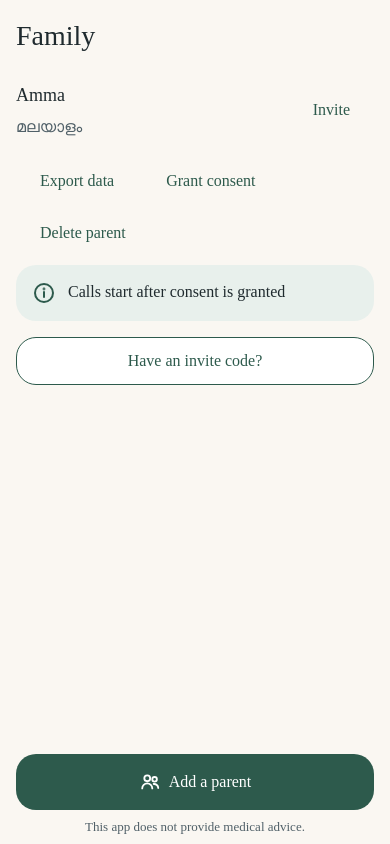
Test case: FamilyListScreen › navigates to Invite for an owner
Click the button with test id "invite-p1" at (331, 110), box [289,86,374,134]
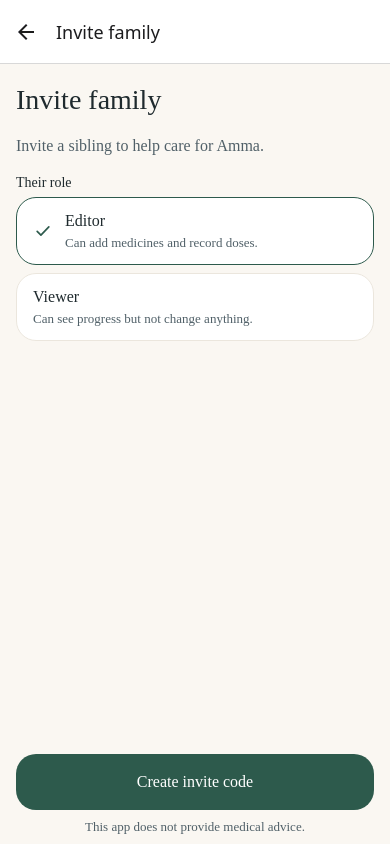
Expected: the button with test id "invite-create" is shown, [16,754,374,810]
